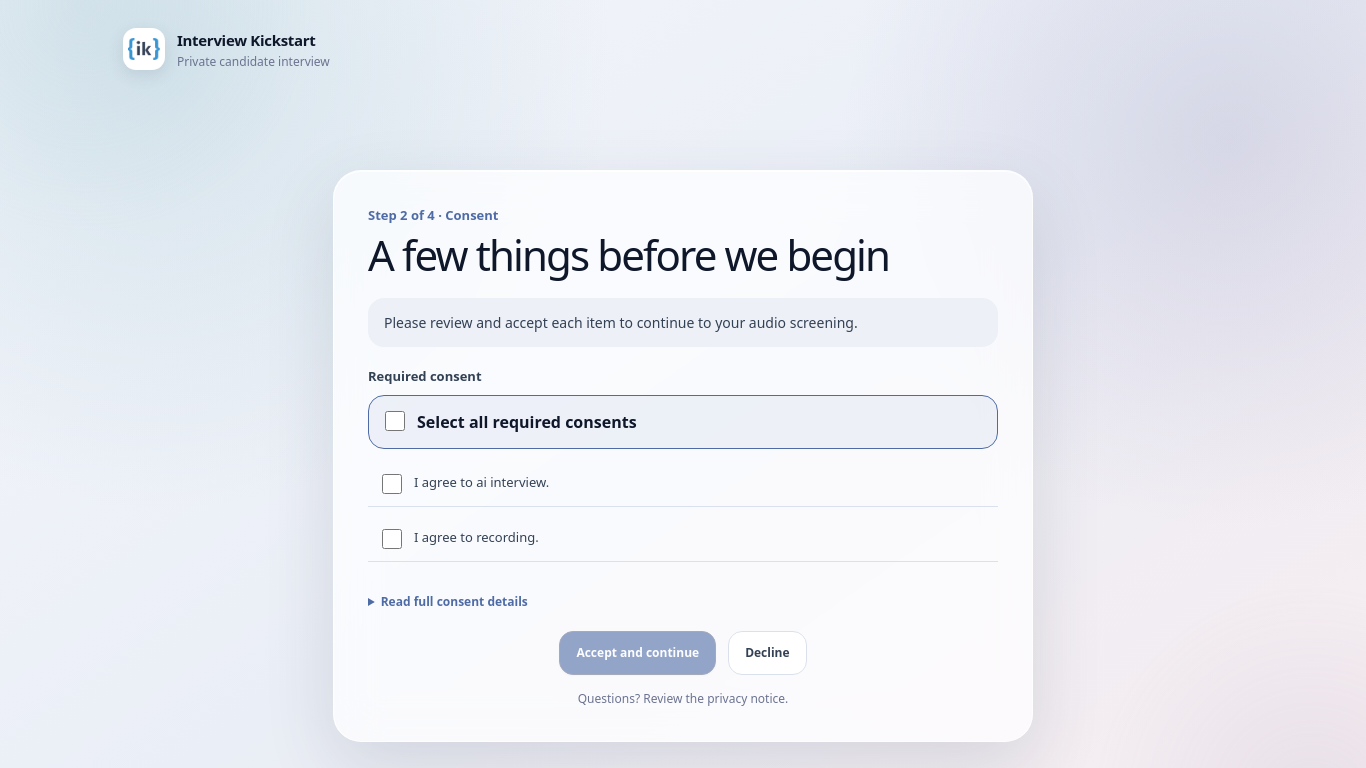
CandidateJoinPage › decline persists: no join button, no exchange, no media creation
Click the button "Decline": (767, 653) [728, 631, 806, 675]
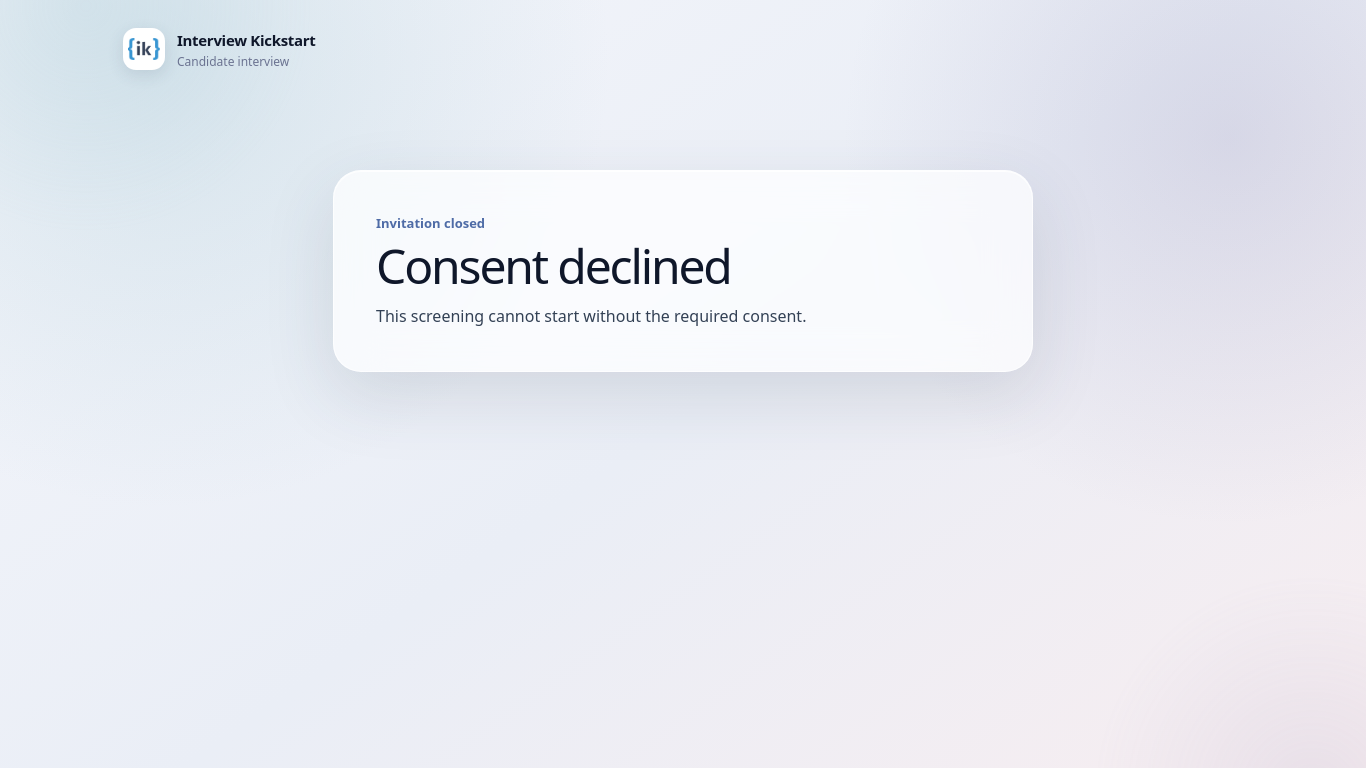
Expected: the heading "Consent declined" is shown, [376, 233, 731, 298]
